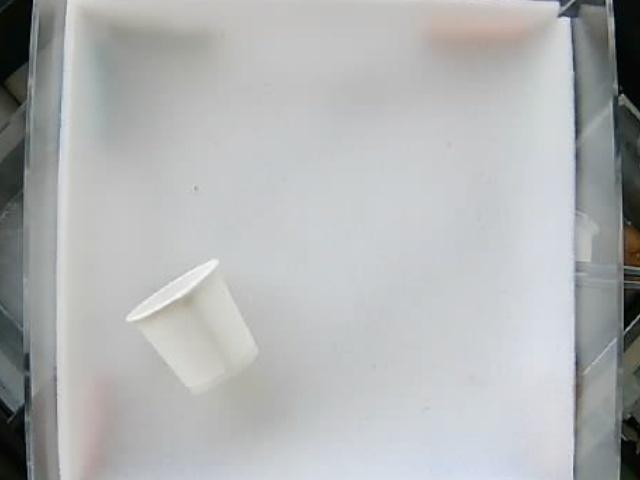Cup: (126, 258, 261, 394)
